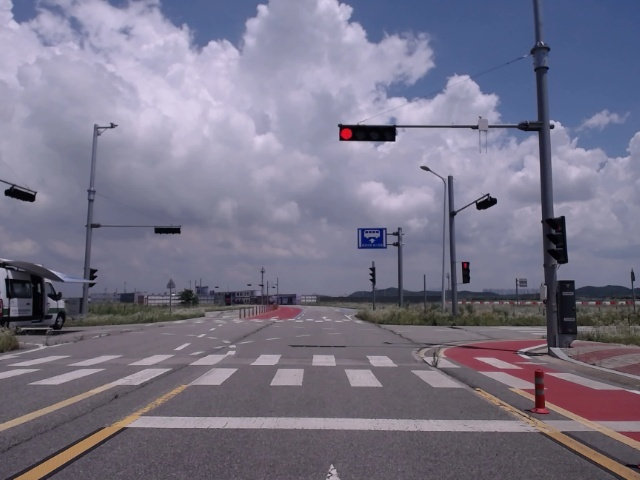red_4: (339, 126, 395, 141)
